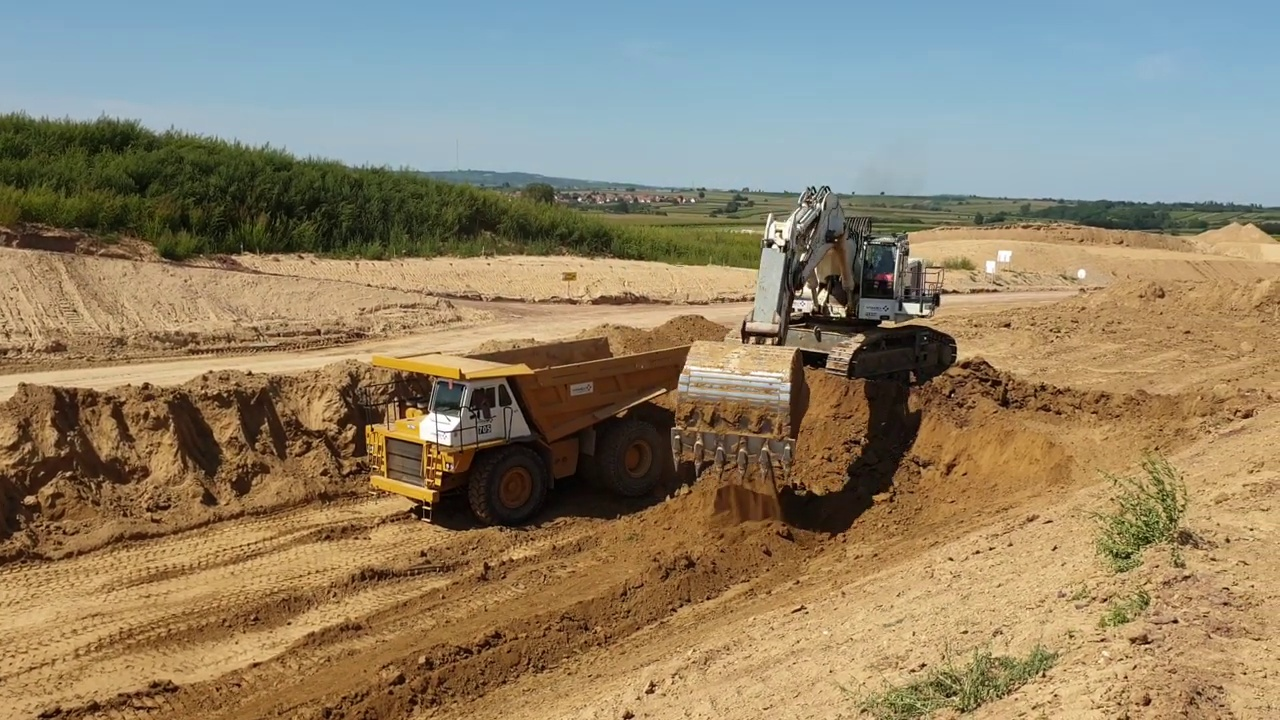excavator: (668, 179, 960, 482)
truck: (353, 331, 719, 536)
